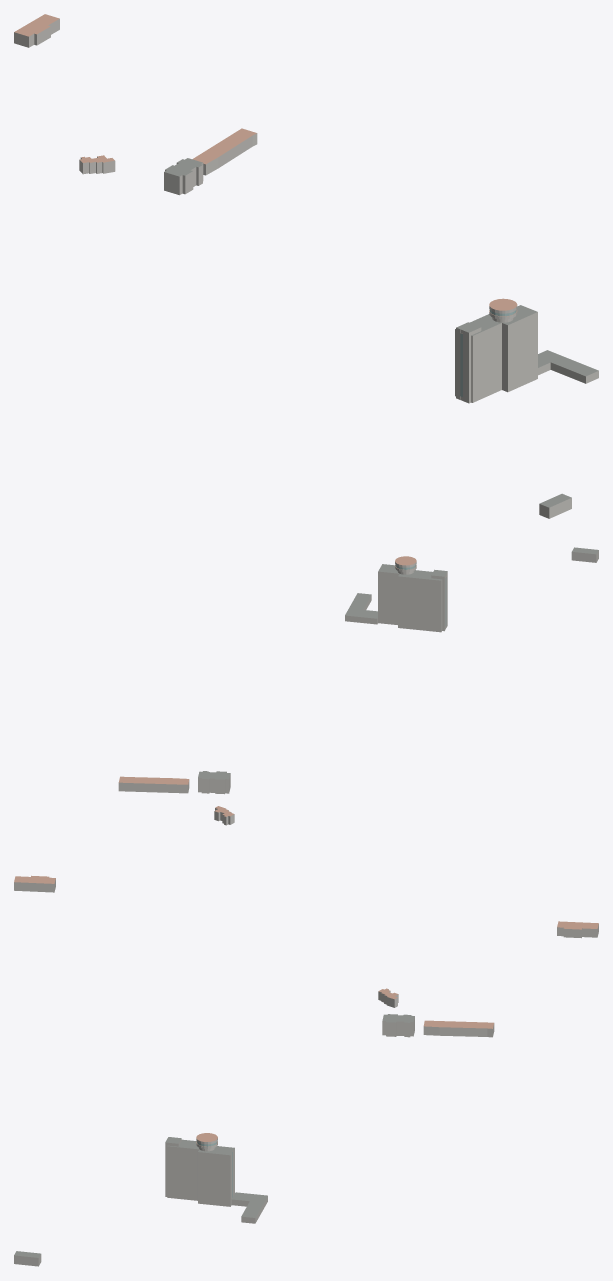
File: gridID_4_high.dae
3 views of the same model, one above another, from view 1: azimuth 30°, elevation 25°; view 2: azimuth 150°, elevation 25°; view 3: azimuth 330°, elevation 25° (orthographic). The views are drawn at different scales.
Parts seen in each view (by area): view 1: model_gridID_4_w400551922, model_gridID_4_w400227848, model_gridID_4_w401254872_001, model_gridID_4_w400227848_001; view 2: model_gridID_4_w400551922, model_gridID_4_w400227848, model_gridID_4_w401254872_001, model_gridID_4_w400227848_001; view 3: model_gridID_4_w400551922, model_gridID_4_w400227848, model_gridID_4_w401254872_001, model_gridID_4_w400227848_001.
Boxes of the visible parts, x1,y1,x2,y2 form: model_gridID_4_w400551922: (455,298,598,403); model_gridID_4_w400227848: (192,128,257,175); model_gridID_4_w401254872_001: (164,158,203,195); model_gridID_4_w400227848_001: (14,14,59,47); model_gridID_4_w400551922: (345,556,447,632); model_gridID_4_w400227848: (118,776,189,793); model_gridID_4_w401254872_001: (198,771,230,794); model_gridID_4_w400227848_001: (14,875,55,892); model_gridID_4_w400551922: (165,1133,267,1223); model_gridID_4_w400227848: (423,1020,494,1037); model_gridID_4_w401254872_001: (382,1014,414,1037); model_gridID_4_w400227848_001: (557,921,598,938).
Size of the model in its own units: 130 by 769 by 54.1.
